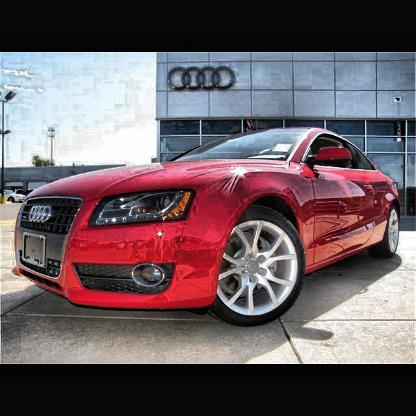Audi A5 Coupe 2012: (13, 127, 403, 329)
